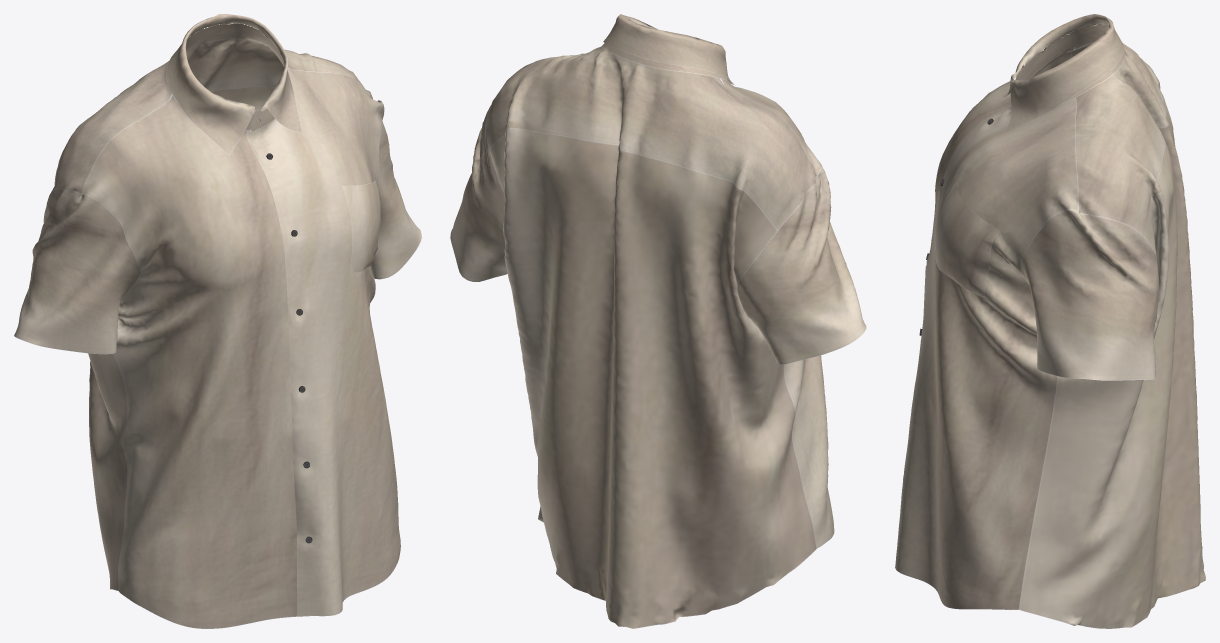
File: Peach colour half sleeve shirt,Mbanana-26.fbx
3 views of the same model, side by side, from view 1: azimuth 30°, elevation 25°; view 2: azimuth 150°, elevation 25°; view 3: azimuth 270°, elevation 25° (orthographic).
Visible parts, largest first — view 1: Peach colour half sleeve shirt,Mbanana-26; view 2: Peach colour half sleeve shirt,Mbanana-26; view 3: Peach colour half sleeve shirt,Mbanana-26.
Part boxes in pixels (bbox=[...]): Peach colour half sleeve shirt,Mbanana-26: bbox=[14, 14, 421, 628]; Peach colour half sleeve shirt,Mbanana-26: bbox=[450, 14, 866, 628]; Peach colour half sleeve shirt,Mbanana-26: bbox=[895, 14, 1205, 628].
Bounding box in the file's own units: 27.5 × 36.53 × 18.08.
Materials: 7 (7 with a texture image).
